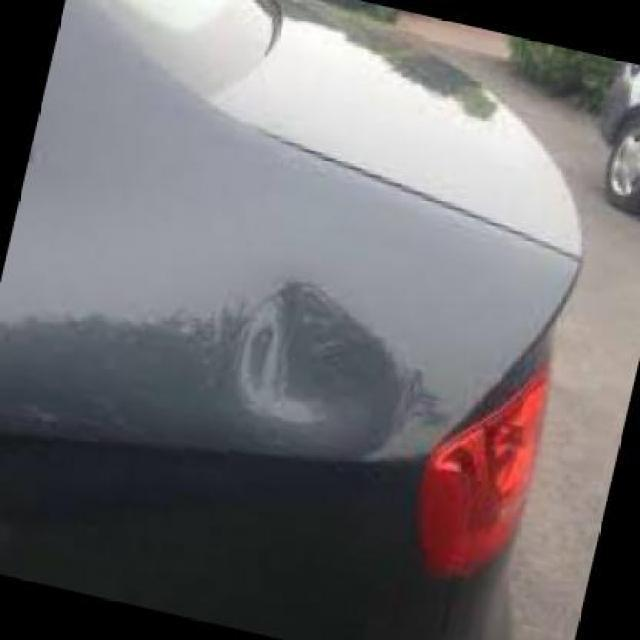dent: (235, 282, 417, 462)
